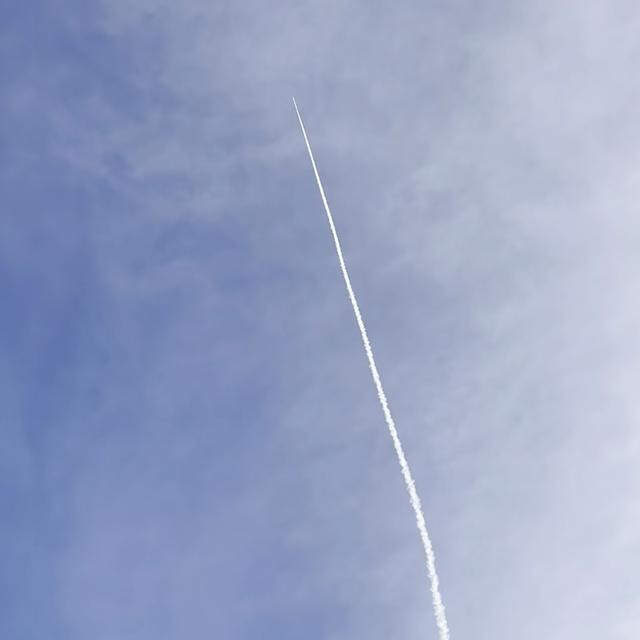smoke_trail_no_rocket: (293, 97, 448, 640)
